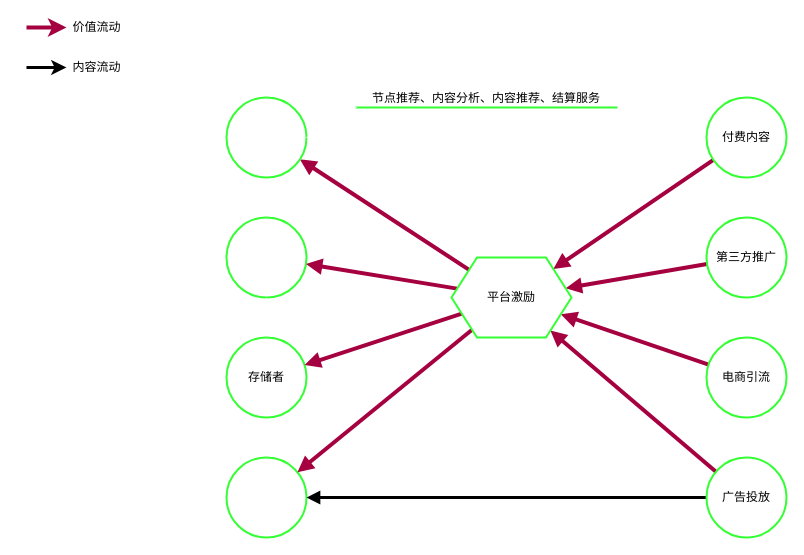
Image size: 804x555. Some labels were removed from this diagram. Each missing label, with the centre of its shape:
"内容发布" belongs at pixel 266 497.
"浏览者" belongs at pixel 266 257.
"特殊功能服务" belongs at pixel 266 137.
